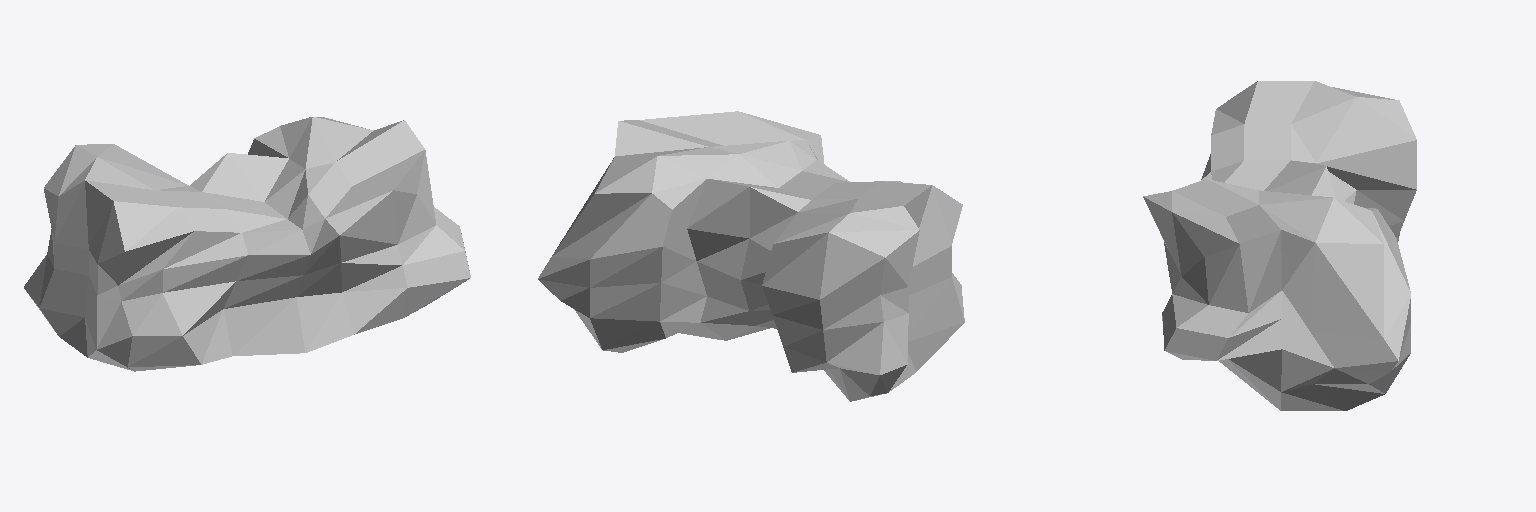
Rendered from asteroid5.obj.
3 views of the same model, side by side, from view 1: azimuth 30°, elevation 25°; view 2: azimuth 150°, elevation 25°; view 3: azimuth 270°, elevation 25° (orthographic).
Parts seen in each view (by area): view 1: pCube1; view 2: pCube1; view 3: pCube1.
Part boxes in pixels (x1,y1,x2,y2): pCube1: (24,117,470,371); pCube1: (538,111,964,401); pCube1: (1143,81,1416,410).
Size of the model in its own units: 6.8 by 3.66 by 4.53.